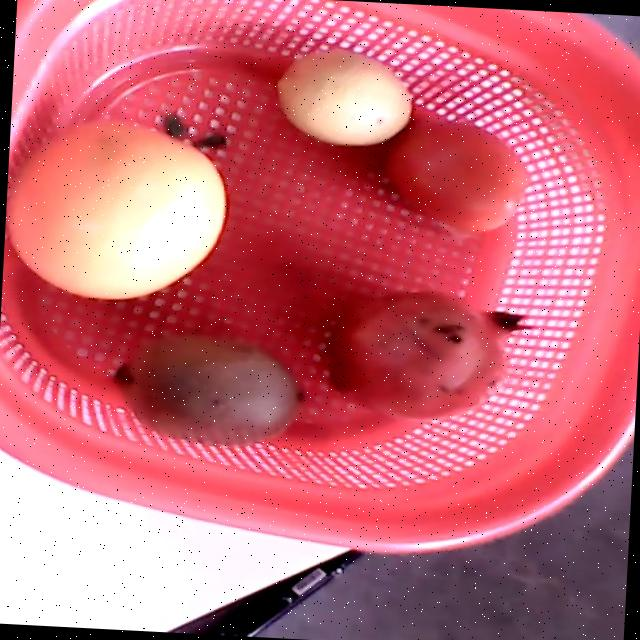kiwi: (115, 335, 301, 444)
lemon: (276, 50, 412, 145)
orange: (6, 113, 224, 299)
pomegranate: (327, 293, 531, 421)
tomato: (384, 120, 530, 231)
